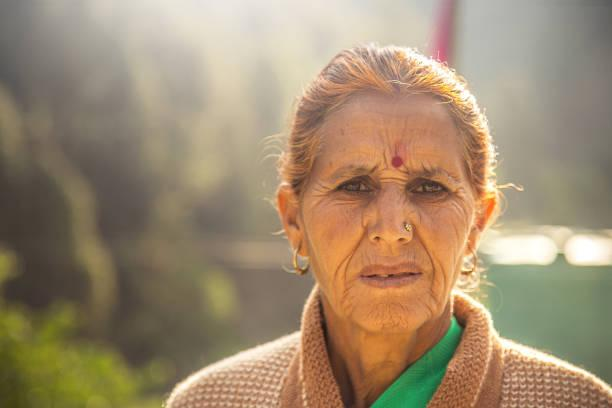Human: (184, 43, 605, 408)
